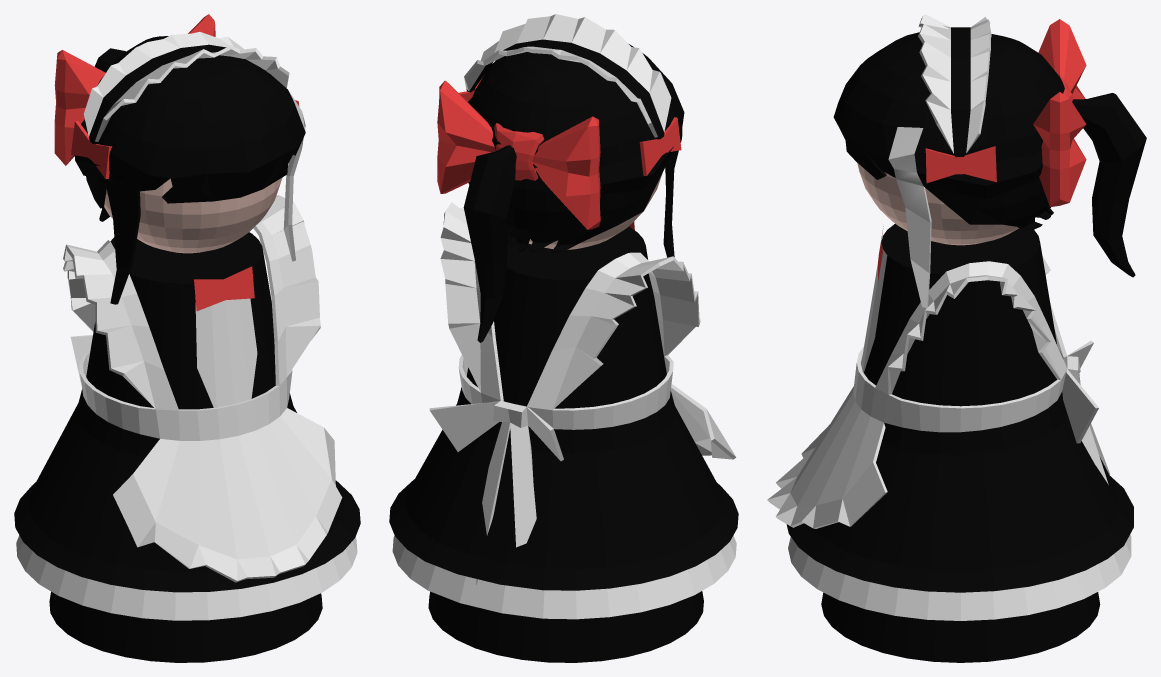
Rendered from char_maid_2.fbx.
3 renders of one model, left to right at view 1: azimuth 30°, elevation 25°; view 2: azimuth 150°, elevation 25°; view 3: azimuth 270°, elevation 25°, orthographic.
Parts seen in each view (by area): view 1: Apron.001, Body.004, Hair.001, Headband.001, Head.004; view 2: Apron.001, Hair.001, Body.004, Headband.001, Head.004; view 3: Apron.001, Hair.001, Body.004, Headband.001, Head.004.
Boxes of the visible parts, x1,y1,x2,y2 form: Apron.001: (14, 195, 360, 620); Body.004: (49, 232, 322, 662); Hair.001: (54, 14, 305, 304); Headband.001: (71, 32, 299, 178); Head.004: (104, 177, 282, 253); Apron.001: (389, 202, 738, 619); Hair.001: (437, 44, 684, 342); Body.004: (428, 221, 703, 662); Headband.001: (458, 14, 681, 175); Head.004: (528, 173, 662, 249); Apron.001: (767, 229, 1133, 620); Hair.001: (833, 19, 1146, 308); Body.004: (821, 223, 1100, 662); Headband.001: (918, 14, 996, 183); Head.004: (857, 163, 1018, 245).
Size of the model in its own units: 0.8777 by 1.59 by 0.9423.
